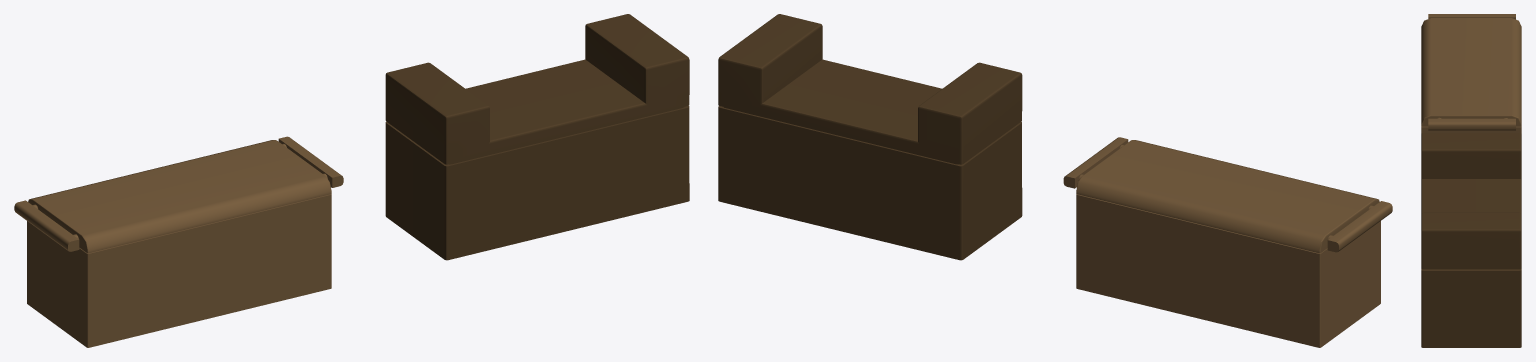
The model's file is Sarcofagos.fbx.
The picture shows the model from 3 angles, left to right: view 1: azimuth 30°, elevation 25°; view 2: azimuth 150°, elevation 25°; view 3: azimuth 270°, elevation 25°; orthographic projection. The views are drawn at different scales.
Visible parts, largest first — view 1: pCube40, pCylinder5; view 2: pCube40, pCylinder5; view 3: pCube40, pCylinder5.
Part boxes in pixels (bbox=[...]): pCube40: bbox=[385, 14, 689, 260]; pCylinder5: bbox=[14, 136, 343, 347]; pCube40: bbox=[718, 14, 1022, 260]; pCylinder5: bbox=[1063, 137, 1392, 347]; pCube40: bbox=[1421, 133, 1521, 347]; pCylinder5: bbox=[1421, 14, 1521, 133].
Bounding box in the file's own units: 11.26 × 2.5 × 1.93.
